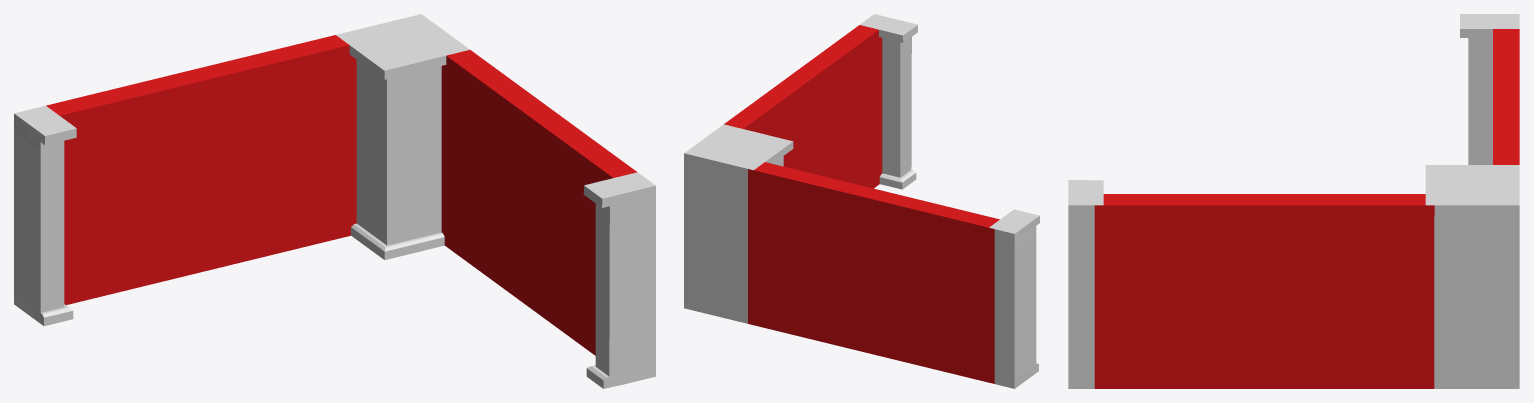
File: Wall corner in basic.fbx
3 renders of one model, left to right at view 1: azimuth 30°, elevation 25°; view 2: azimuth 150°, elevation 25°; view 3: azimuth 270°, elevation 25°, orthographic. The views are drawn at different scales.
Visible parts, largest first — view 1: Corner in Hybrid; view 2: Corner in Hybrid; view 3: Corner in Hybrid.
Part boxes in pixels (bbox=[...]): Corner in Hybrid: bbox=[14, 14, 655, 388]; Corner in Hybrid: bbox=[684, 14, 1039, 388]; Corner in Hybrid: bbox=[1068, 14, 1519, 388].
Size of the model in its own units: 637 by 286 by 636.
